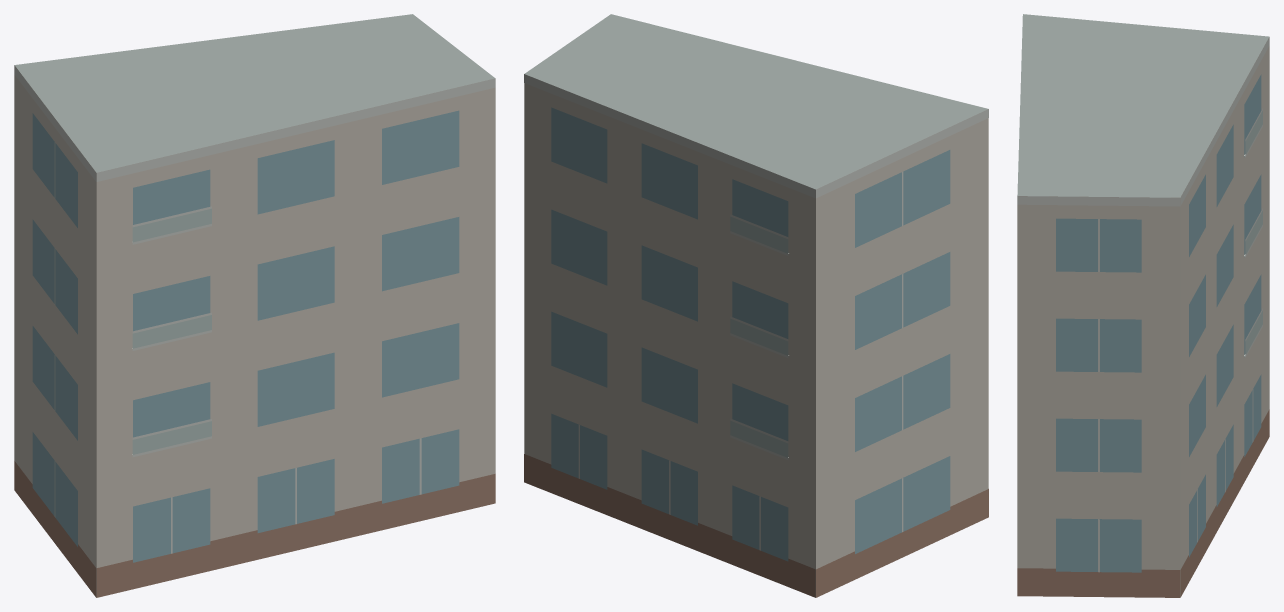
File: survey-upis-32461486.glb
3 views of the same model, side by side, from view 1: azimuth 30°, elevation 25°; view 2: azimuth 150°, elevation 25°; view 3: azimuth 270°, elevation 25° (orthographic). The views are drawn at different scales.
Visible parts, largest first — view 1: survey-upis-32461486.tmp; view 2: survey-upis-32461486.tmp; view 3: survey-upis-32461486.tmp.
Part boxes in pixels (x1,y1,x2,y2): survey-upis-32461486.tmp: (14,14,495,597); survey-upis-32461486.tmp: (524,14,988,597); survey-upis-32461486.tmp: (1017,14,1269,597).
Bounding box in the file's own units: 11.04 × 11.2 × 6.41.
